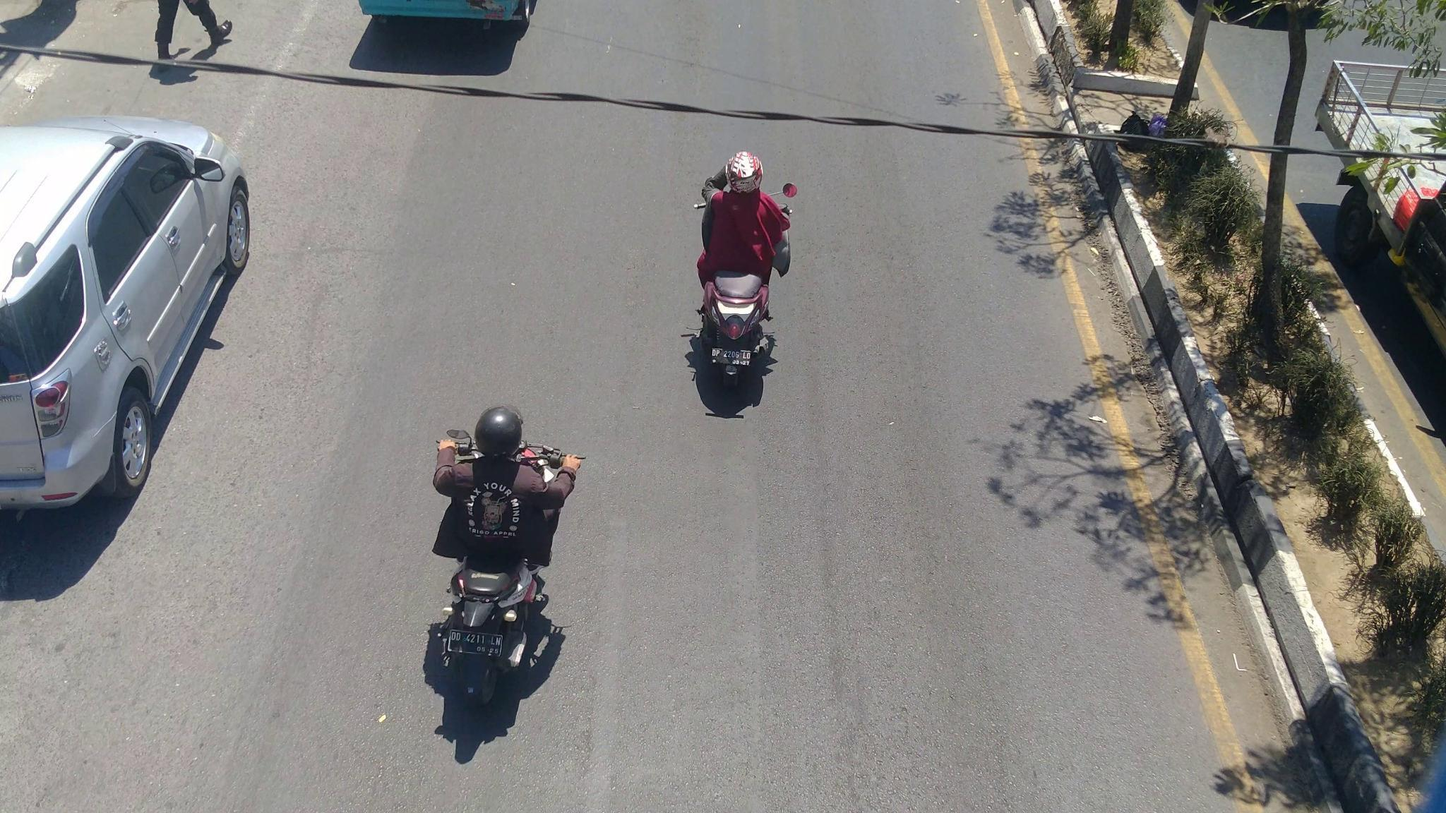Helmet: (466, 398, 533, 465), (723, 147, 769, 198)
bike: (432, 422, 582, 706), (691, 181, 796, 394)
number-plate: (445, 624, 503, 660), (709, 345, 754, 368)
rider: (432, 401, 580, 570), (701, 149, 790, 294)
